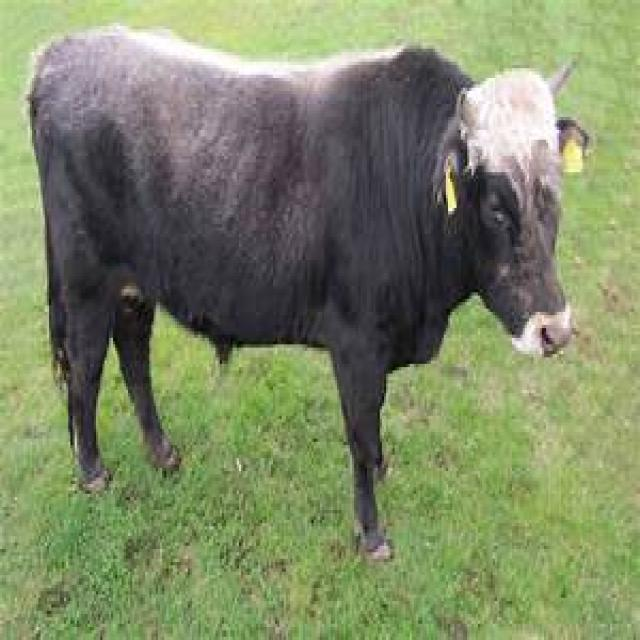cow: (29, 29, 571, 557)
